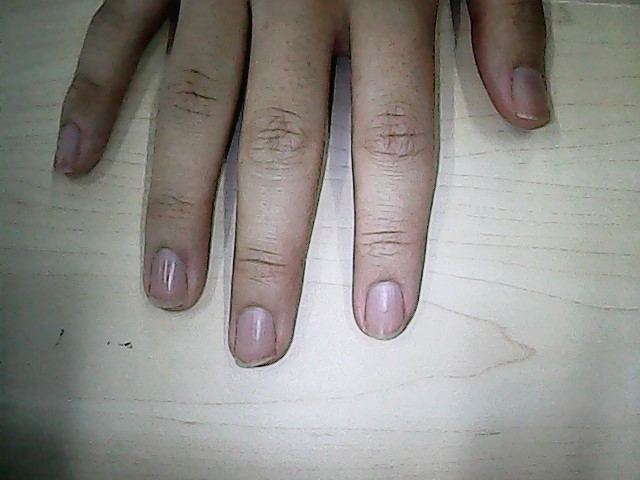nail: (514, 62, 555, 124), (149, 251, 188, 308), (235, 313, 275, 367), (367, 283, 403, 340), (55, 129, 82, 175)
